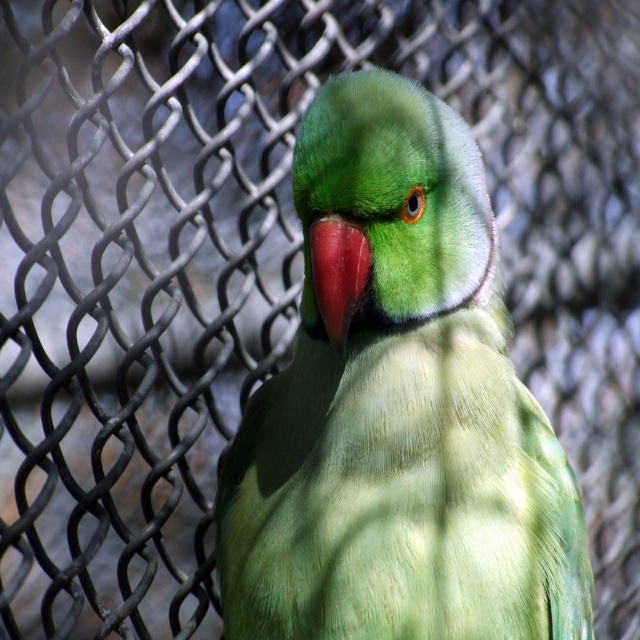Parrot: (220, 68, 596, 639)
